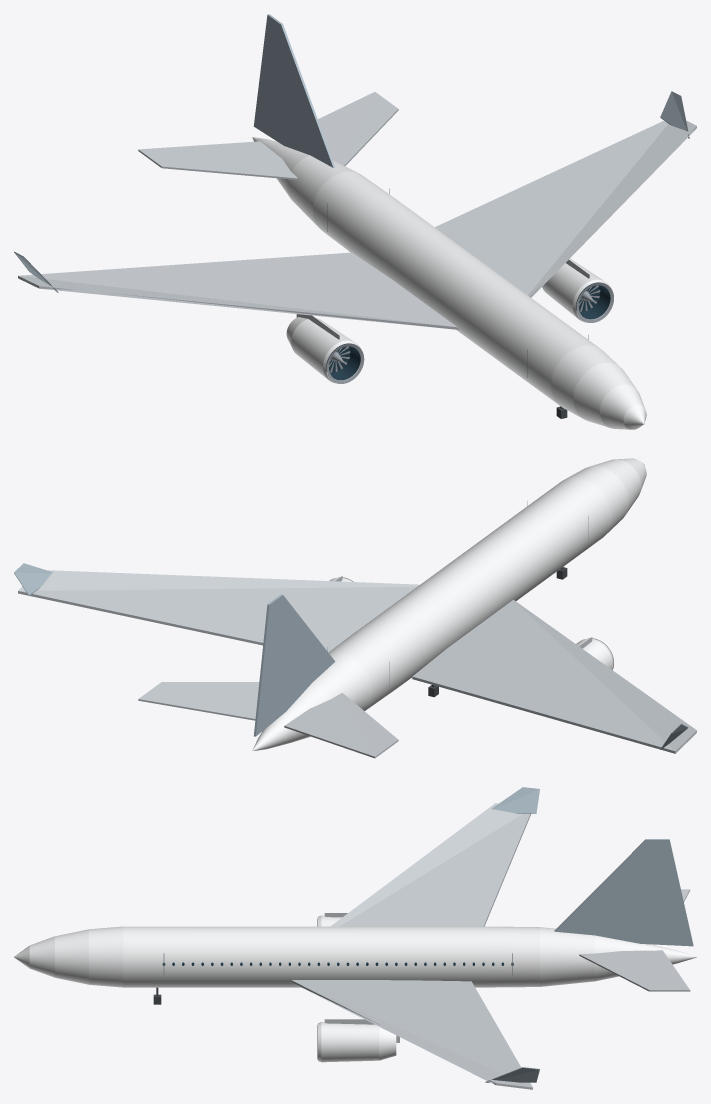
The model's file is a350-neutral-v3.gltf.
3 renders of one model, top to bottom at view 1: azimuth 30°, elevation 25°; view 2: azimuth 150°, elevation 25°; view 3: azimuth 270°, elevation 25°, orthographic. The views are drawn at different scales.
Visible parts, largest first — view 1: object 1; view 2: object 1; view 3: object 1.
Boxes of the visible parts, left/top/right/bottom form: object 1: left=14, top=14, right=696, bottom=429; object 1: left=14, top=458, right=696, bottom=758; object 1: left=14, top=787, right=696, bottom=1089.
Size of the model in its own units: 65 by 18.14 by 67.
